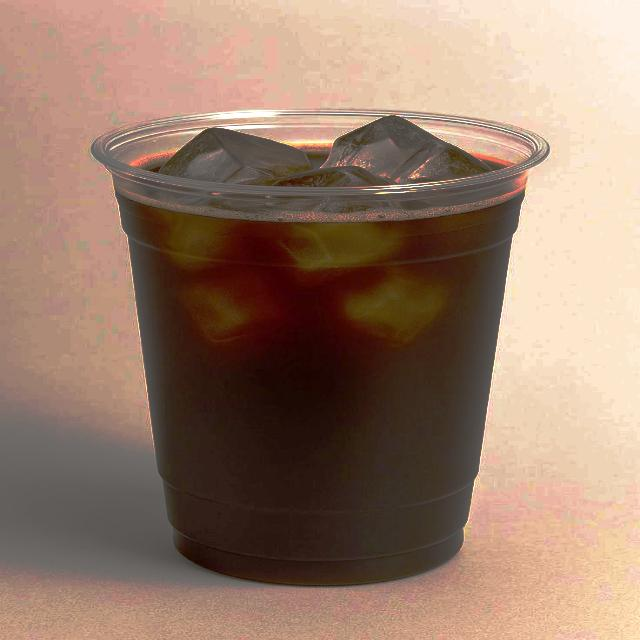drink: (108, 112, 530, 589)
